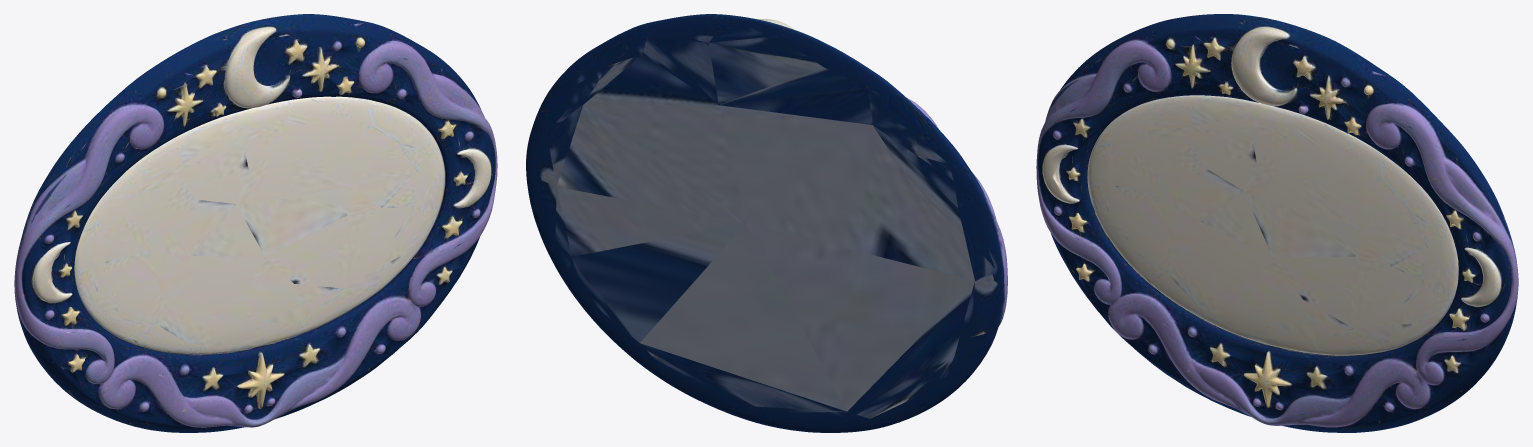
The picture shows the model from 3 angles, left to right: view 1: azimuth 30°, elevation 25°; view 2: azimuth 150°, elevation 25°; view 3: azimuth 330°, elevation 25°; orthographic projection.
Size of the model in its own units: 1.9 by 1.53 by 0.0989.
Materials: 1 (1 with a texture image).
